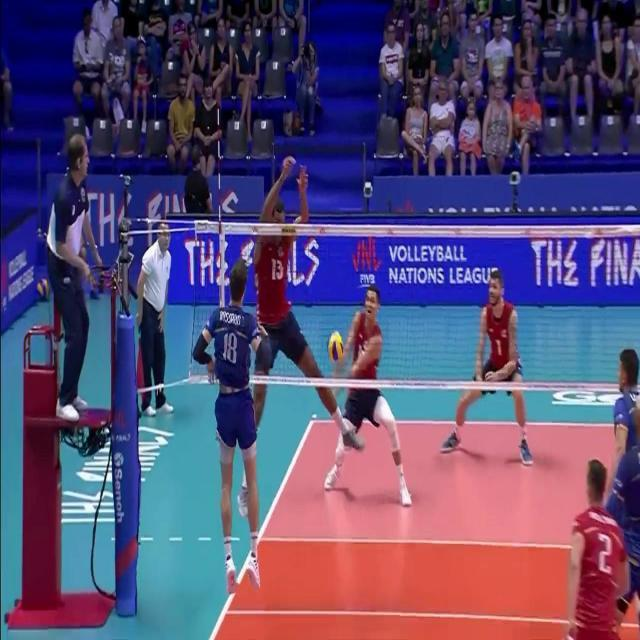volleyball: (328, 331, 344, 362)
